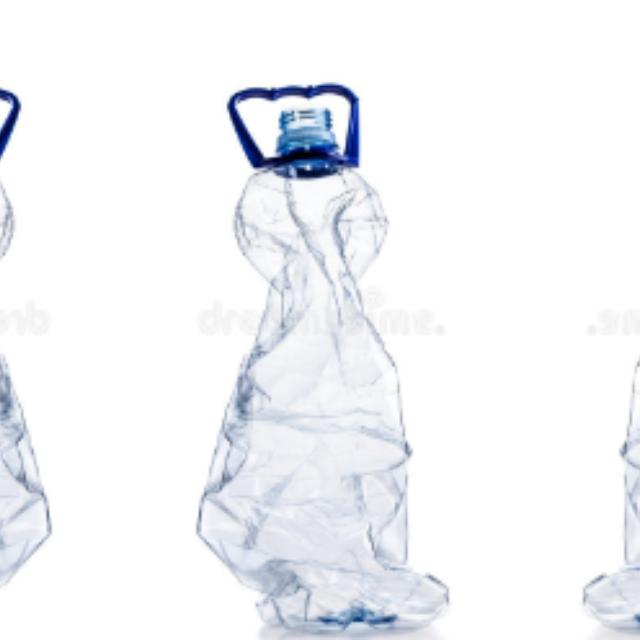Plastic: (185, 56, 469, 640), (562, 56, 640, 639), (0, 56, 61, 639)
